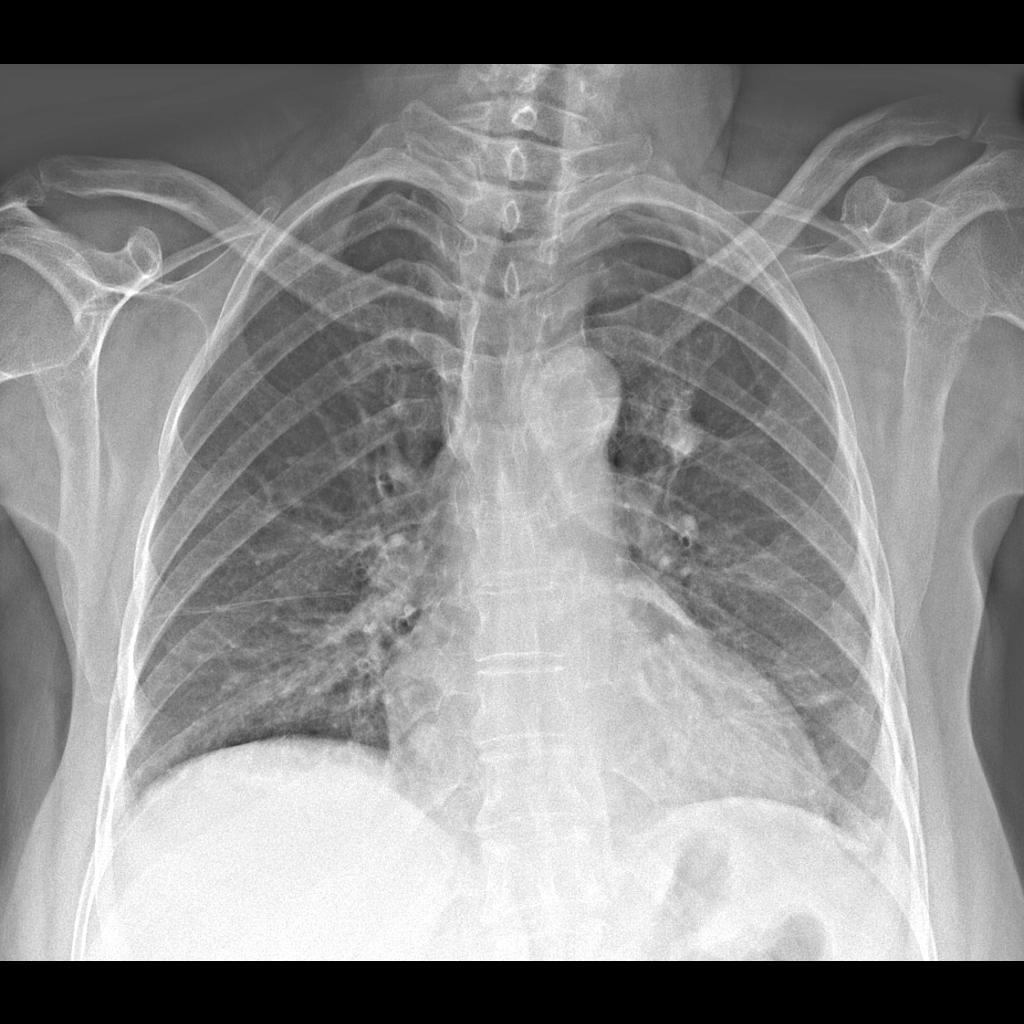Nodule: (661, 417, 712, 466)
